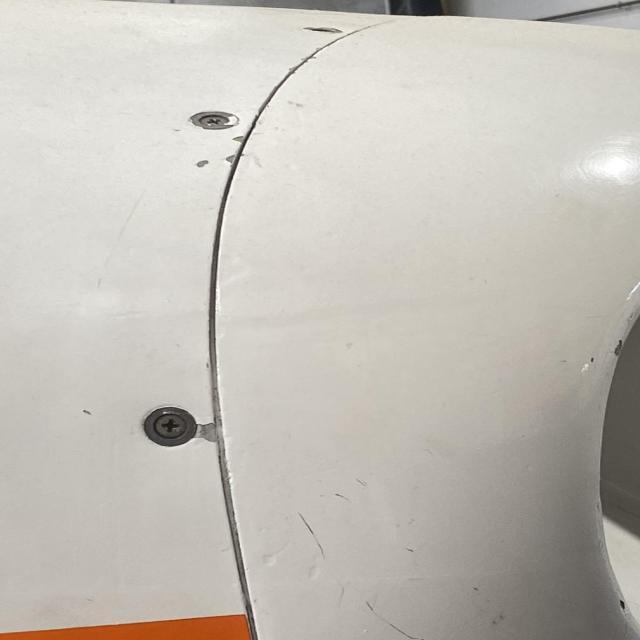Paint-off: (301, 562, 324, 582), (259, 553, 278, 567), (614, 336, 625, 358), (230, 132, 245, 147), (222, 150, 237, 165), (194, 158, 208, 167), (619, 598, 626, 611)
